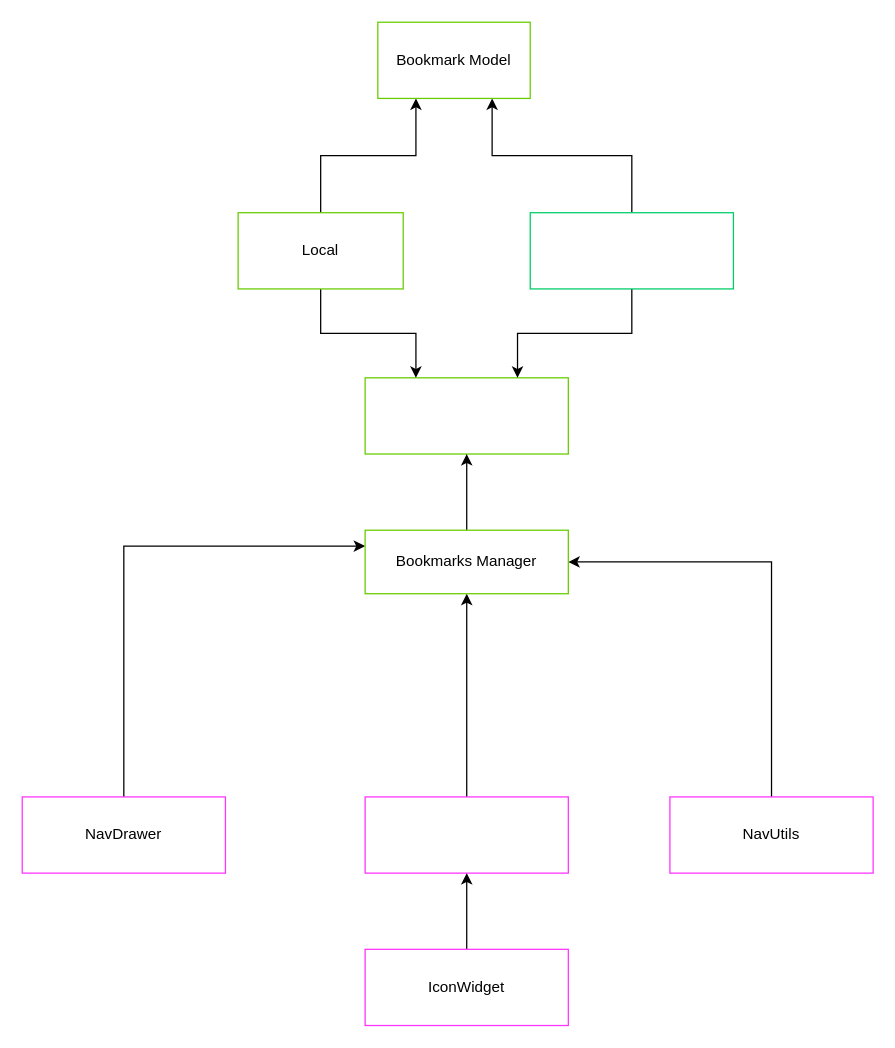
Some shapes in this 895 by 1048 pixel diagram are drawn without their labels. The shapes that lost their labels are listed below. From the top down, each one's centre as x and y in pixels, then its label:
[631,250]: Remote
[466,415]: <BookmarkInterface>
[466,834]: AyatScreen
